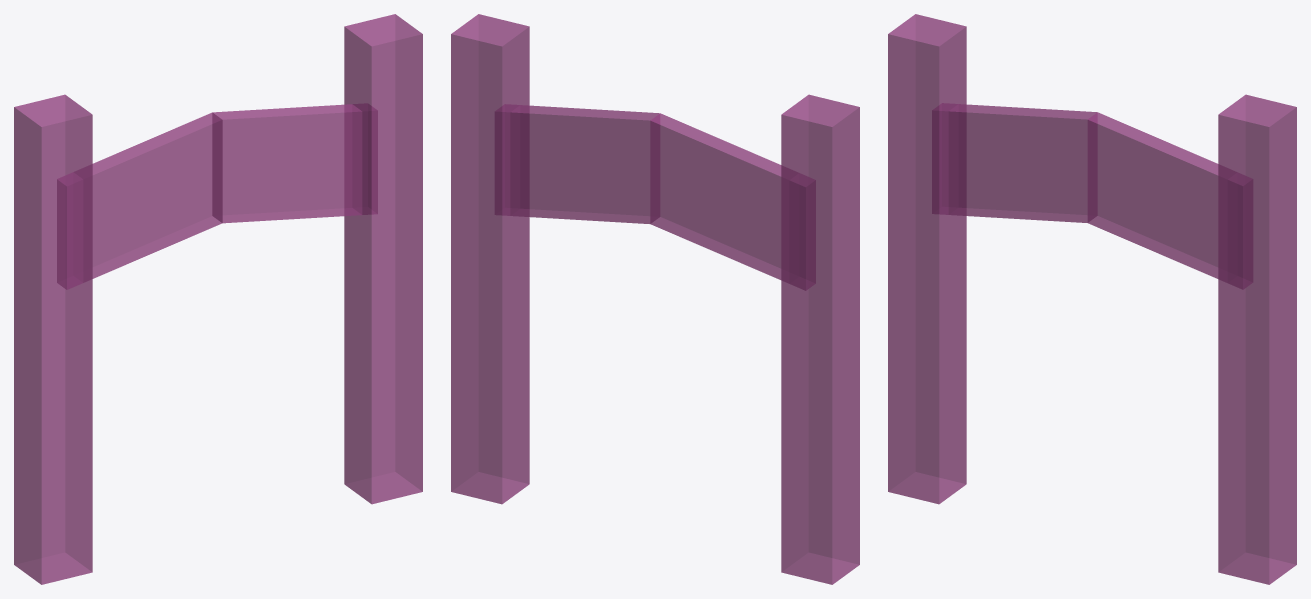
The model's file is SM_Bld_Fence_Arch_01_Collision.fbx.
3 renders of one model, left to right at view 1: azimuth 30°, elevation 25°; view 2: azimuth 150°, elevation 25°; view 3: azimuth 330°, elevation 25°, orthographic.
Parts seen in each view (by area): view 1: SM_Bld_Fence_Arch_01_Collision; view 2: SM_Bld_Fence_Arch_01_Collision; view 3: SM_Bld_Fence_Arch_01_Collision.
Part boxes in pixels (box(x1,y1,x2,y2)): SM_Bld_Fence_Arch_01_Collision: box(14, 14, 422, 584); SM_Bld_Fence_Arch_01_Collision: box(451, 14, 859, 584); SM_Bld_Fence_Arch_01_Collision: box(888, 14, 1296, 584).
Bounding box in the file's own units: 513 × 589 × 64.03.
